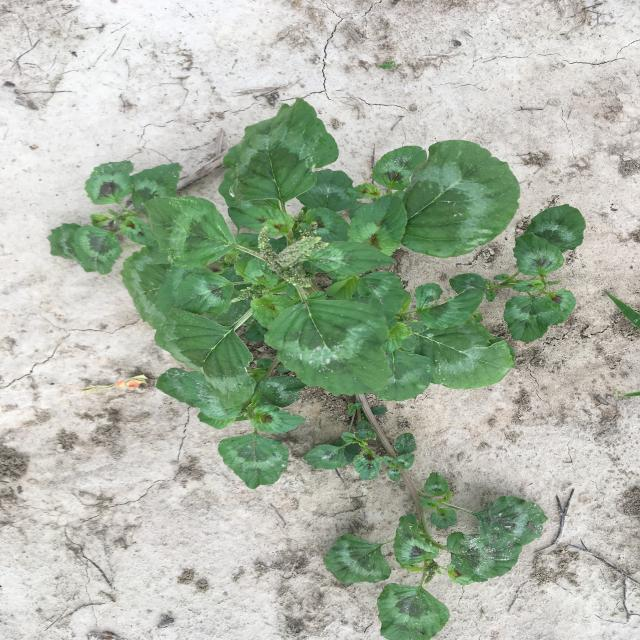PalmerAmaranth: (47, 98, 586, 640)
